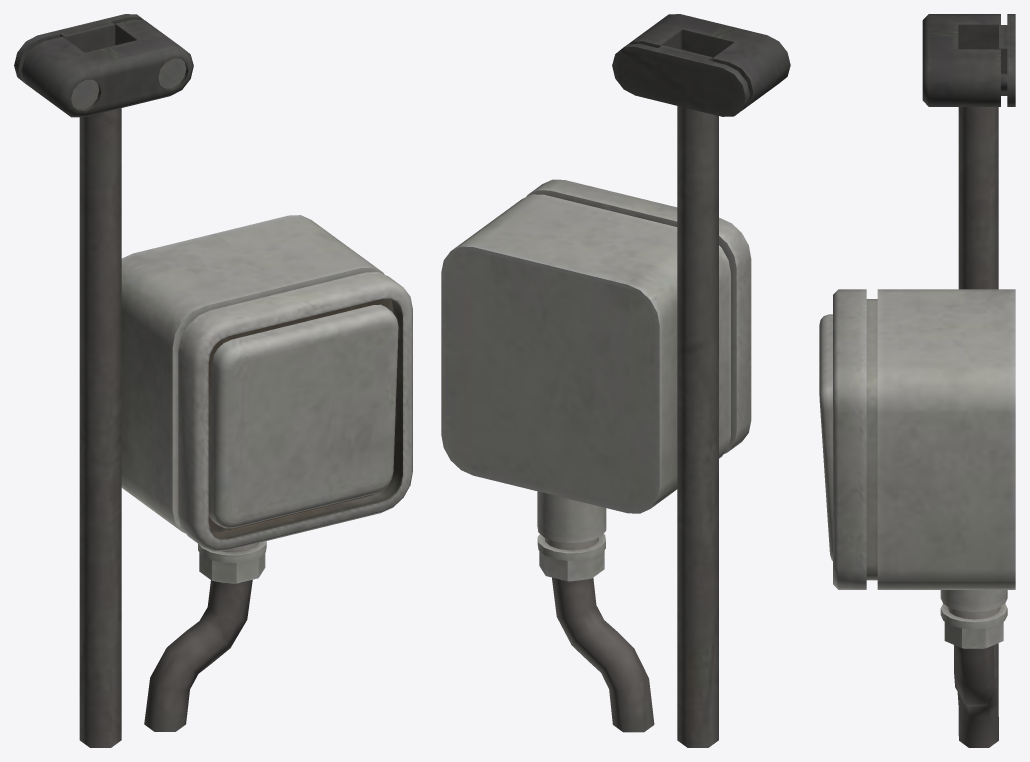
The model's file is cable_lightswitch_double.gltf.
3 views of the same model, side by side, from view 1: azimuth 30°, elevation 25°; view 2: azimuth 150°, elevation 25°; view 3: azimuth 270°, elevation 25° (orthographic). The views are drawn at different scales.
Visible parts, largest first — view 1: cable_lightswitch_double; view 2: cable_lightswitch_double; view 3: cable_lightswitch_double.
Boxes of the visible parts, x1,y1,x2,y2 form: cable_lightswitch_double: (14, 14, 412, 747); cable_lightswitch_double: (441, 14, 790, 747); cable_lightswitch_double: (819, 14, 1015, 747).
Bounding box in the file's own units: 0.0948 × 0.2073 × 0.0547.
Materials: 1 (1 with a texture image).
